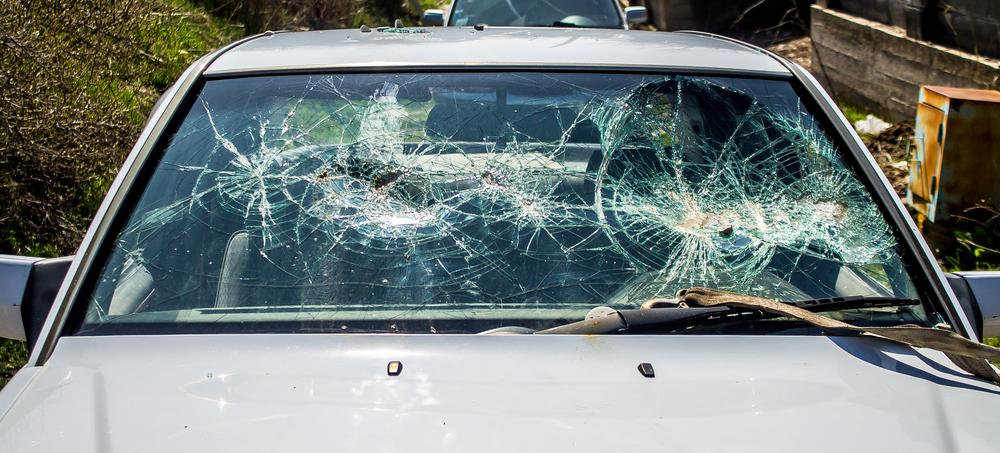glass shatter: (87, 71, 920, 323)
